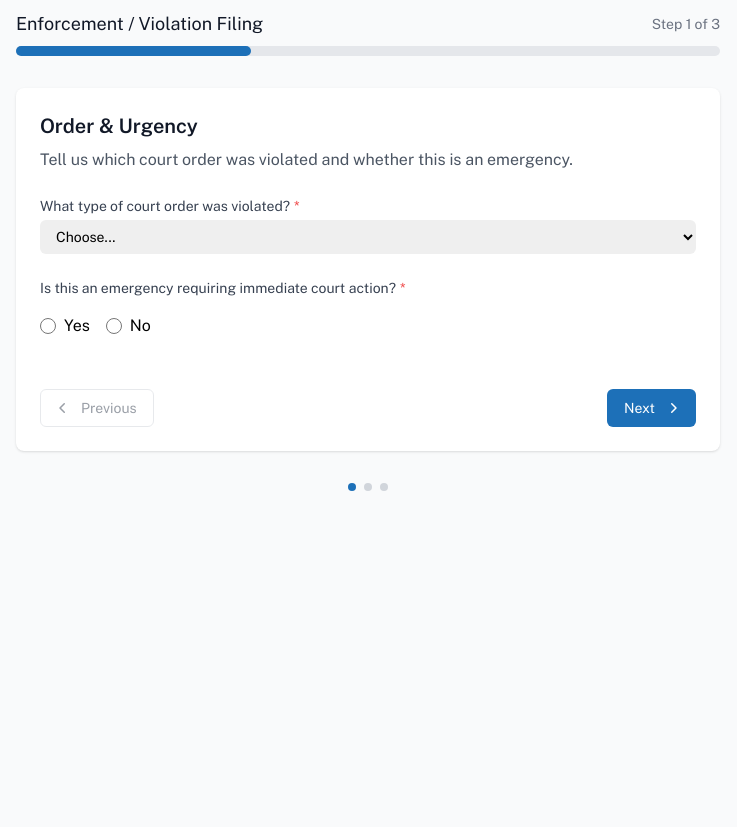
ViolationIntake › wizard navigation › going back from step 2 returns to step 1
The width and height of the screenshot is (737, 827).
Expected: the heading "Order & Urgency" is shown, left=40, top=114, right=198, bottom=138
Click the button "Next" at (652, 408), box left=607, top=389, right=696, bottom=427
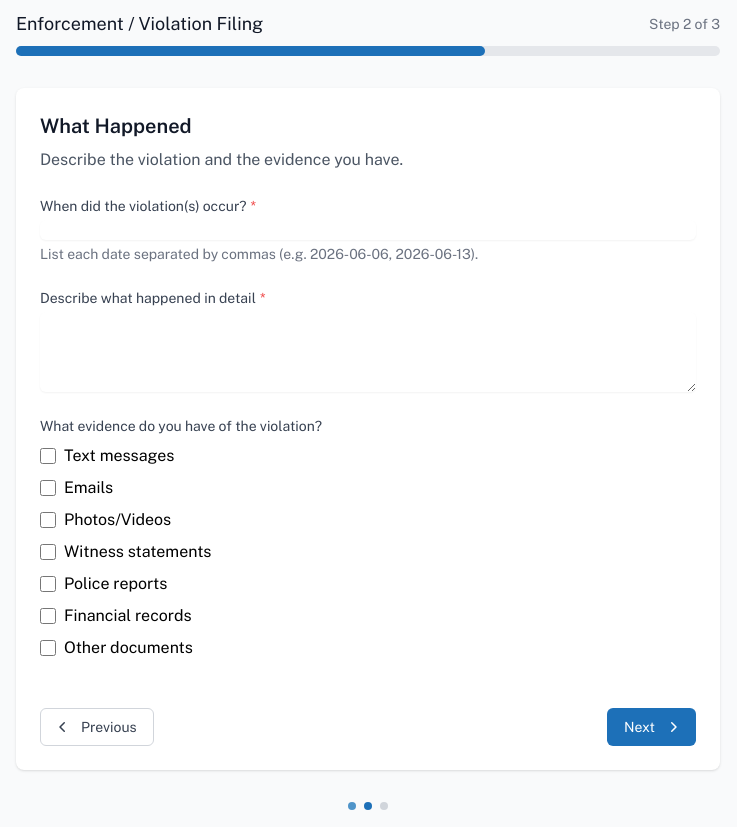
Expected: the heading "What Happened" is shown, left=40, top=114, right=192, bottom=138
Click the button "Previous" at (97, 727), box left=40, top=708, right=154, bottom=746
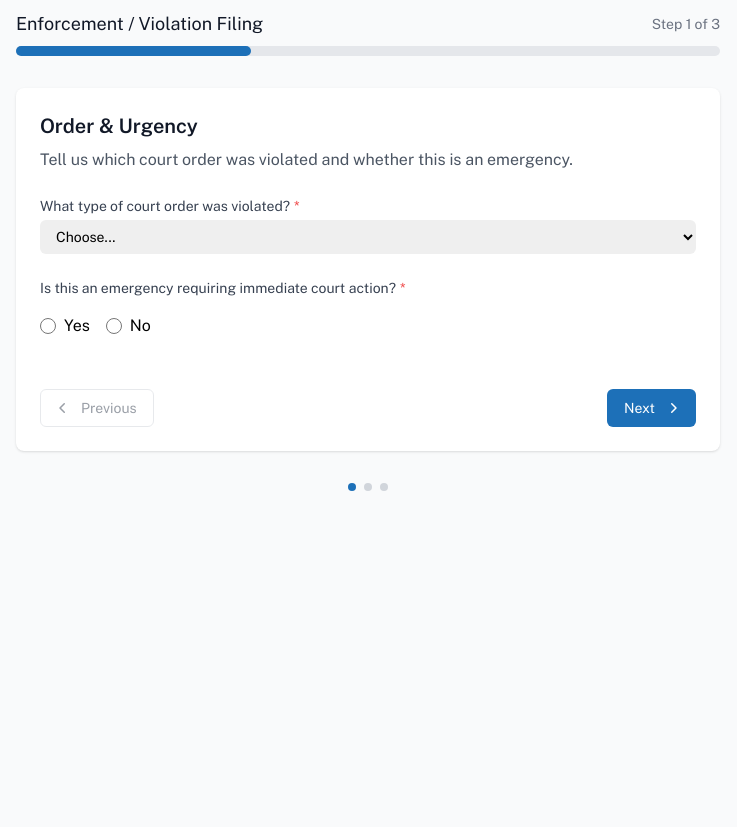
Expected: the heading "Order & Urgency" is shown, left=40, top=114, right=198, bottom=138
